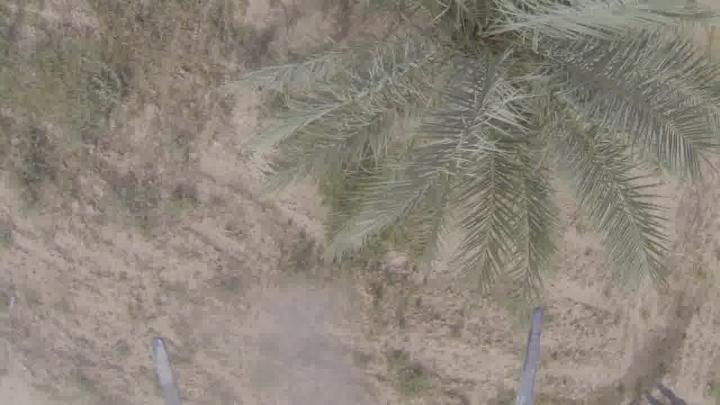Date-Palm-Crown: (330, 0, 672, 232)
